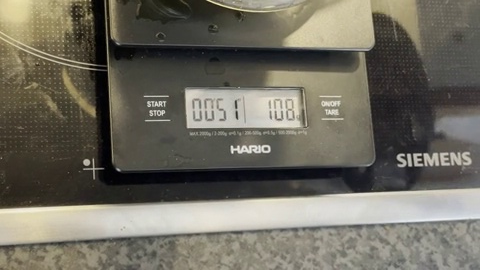display: (185, 87, 303, 127)
